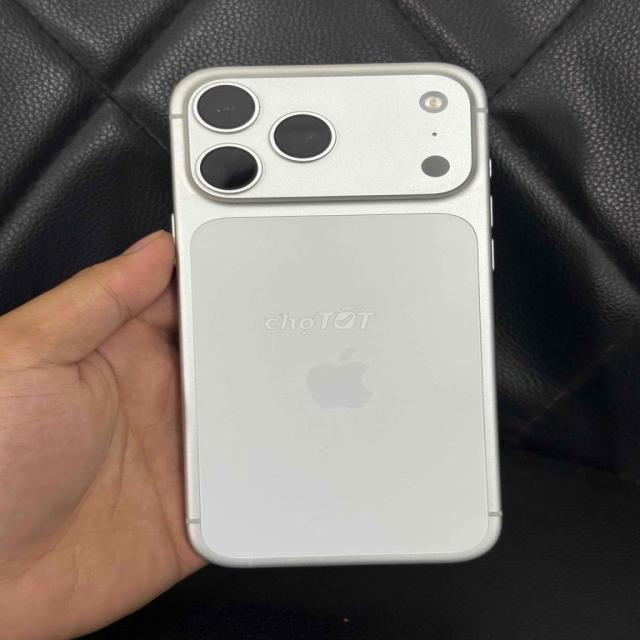gen_17: (157, 42, 517, 578)
